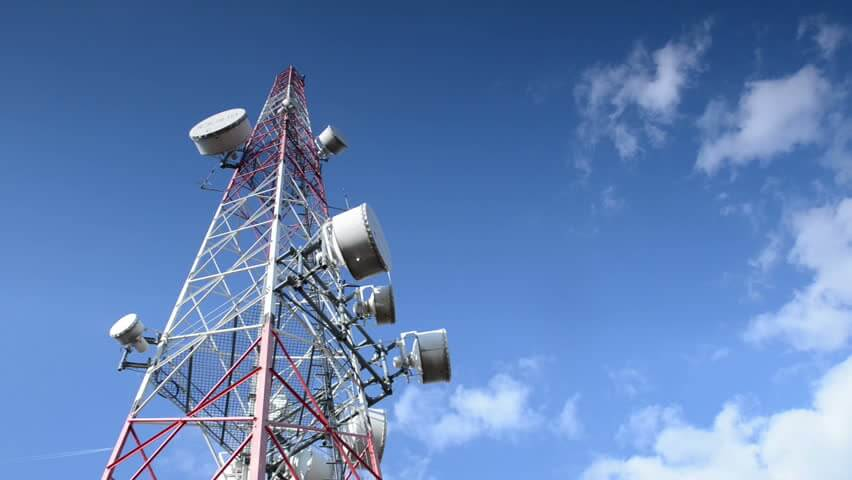b: (325, 201, 392, 279), (188, 105, 252, 157), (401, 328, 454, 386), (310, 119, 348, 160), (105, 311, 149, 346), (367, 281, 400, 326)
